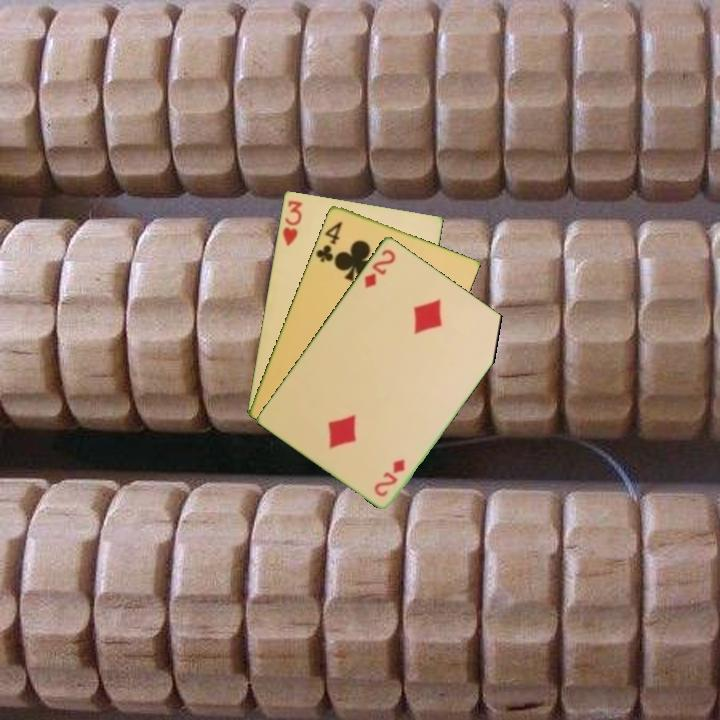2d: (361, 245, 398, 291), (371, 455, 408, 499)
3h: (279, 196, 304, 249)
4c: (312, 217, 345, 265)
